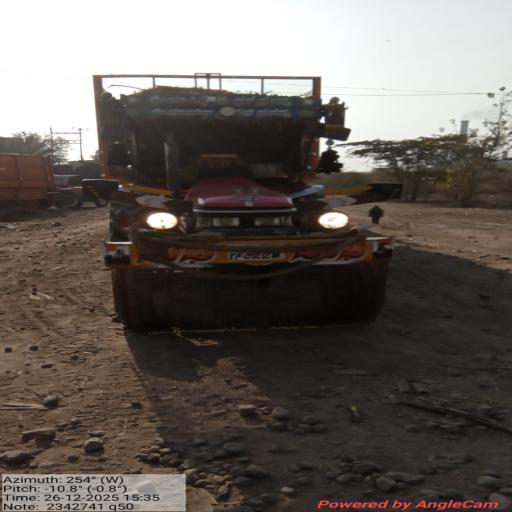number_plate: (203, 241, 306, 265)
